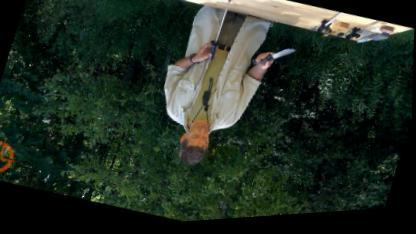knife: (253, 43, 297, 80)
